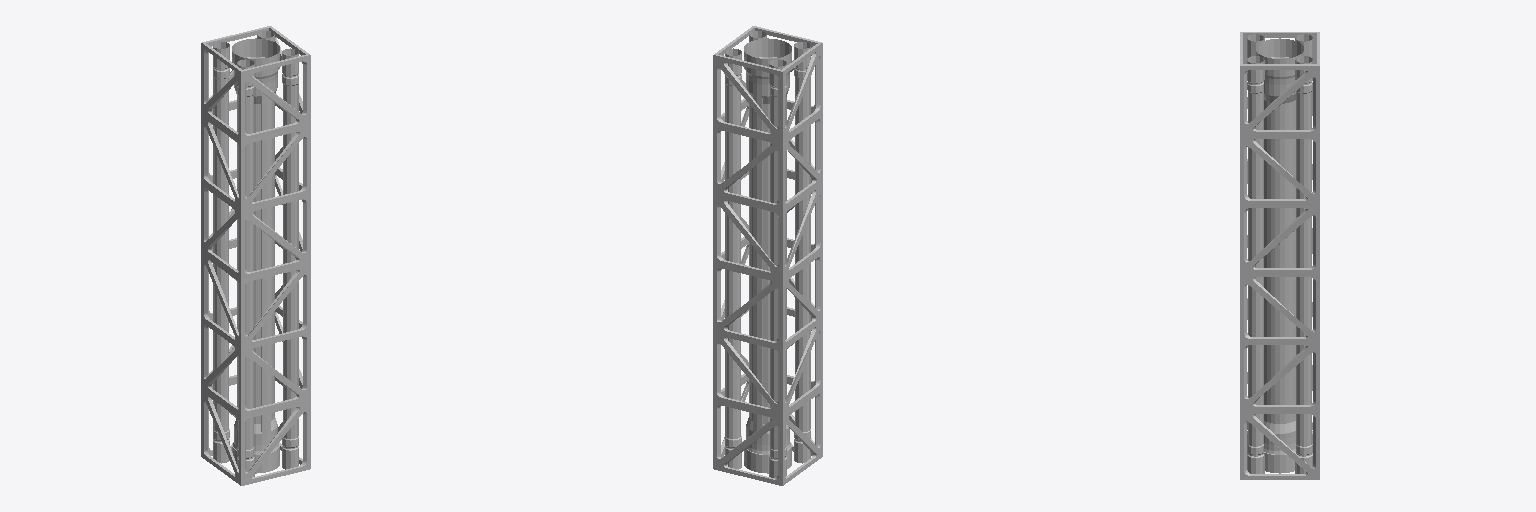
Rendered from pipes_clean.obj.
The picture shows the model from 3 angles: view 1: azimuth 30°, elevation 25°; view 2: azimuth 150°, elevation 25°; view 3: azimuth 270°, elevation 25°; orthographic projection.
Parts seen in each view (by area): view 1: Column_Pipes; view 2: Column_Pipes; view 3: Column_Pipes.
Boxes of the visible parts, box(x1,y1,x2,y2) form: Column_Pipes: box(201, 26, 310, 485); Column_Pipes: box(713, 26, 822, 485); Column_Pipes: box(1240, 32, 1319, 479).
Size of the model in its own units: 0.8746 by 5 by 0.8746.